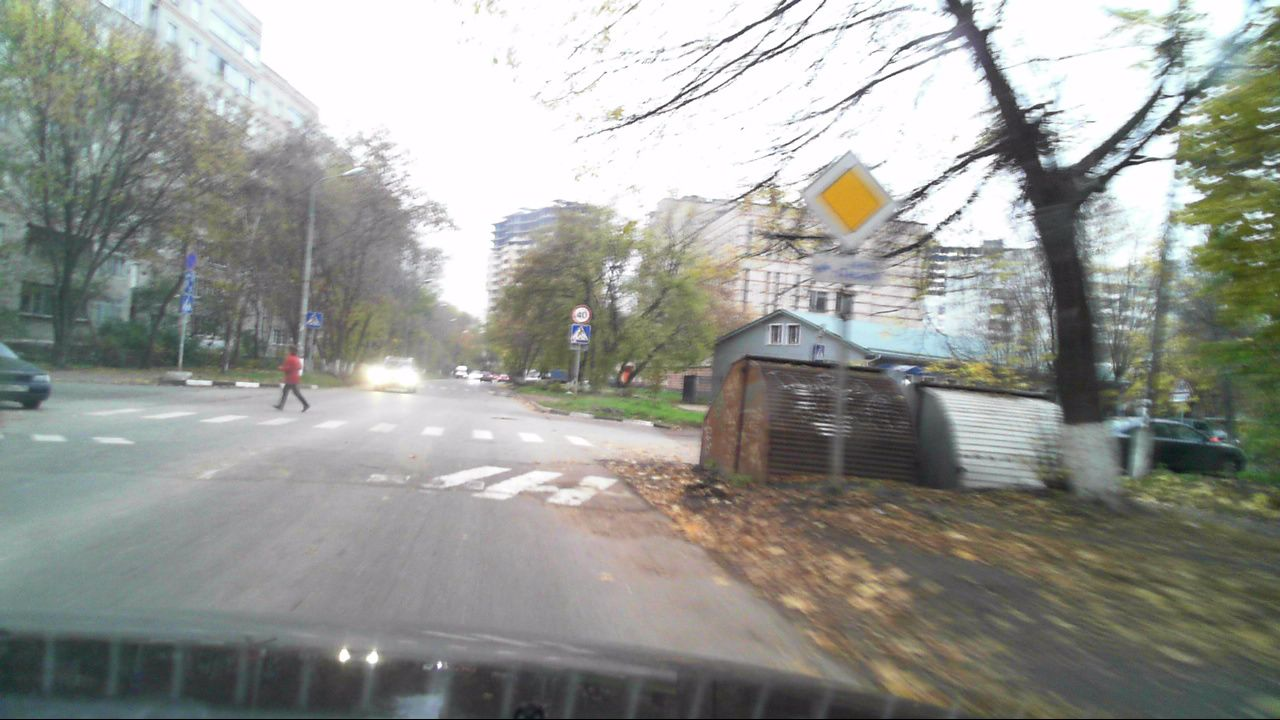speed_warning_40: (572, 305, 590, 323)
